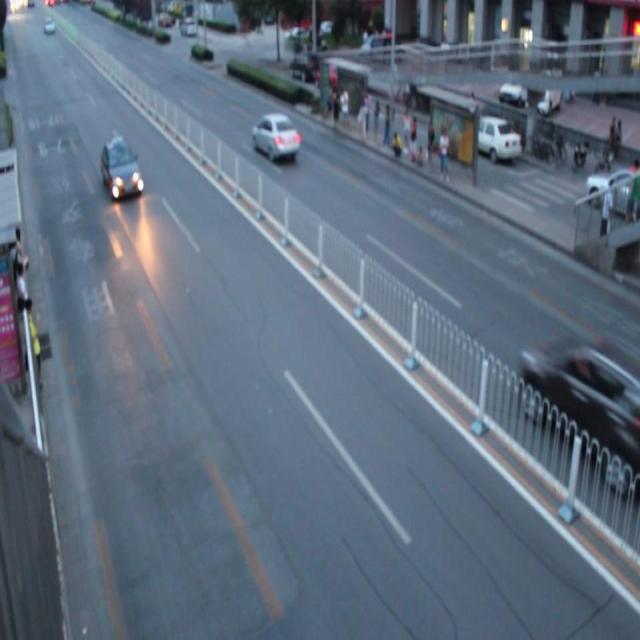car: (518, 332, 640, 493), (100, 136, 144, 203), (253, 112, 300, 164)
